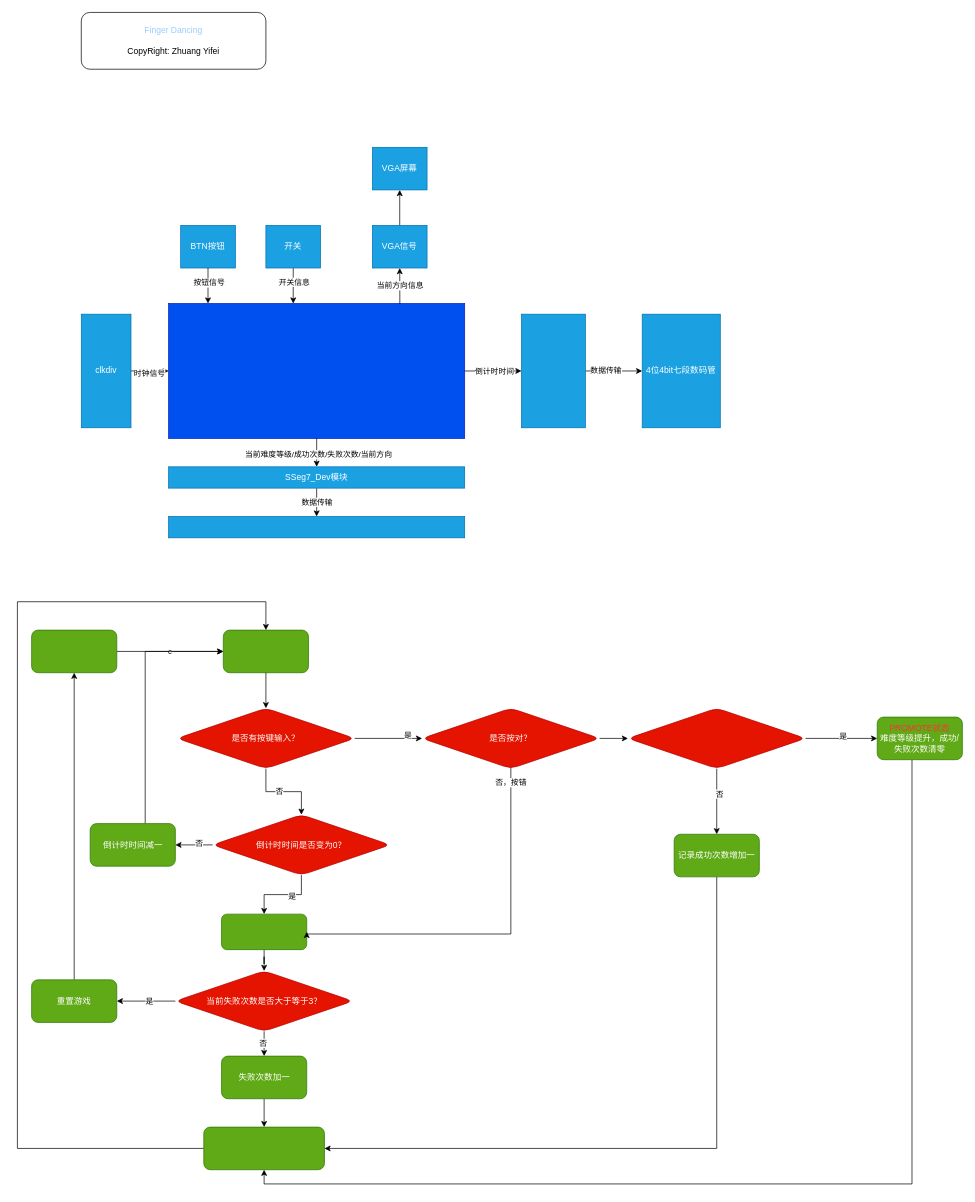
Some shapes in this 975 by 1202 pixel diagram are drawn without their labels. Here are the shapes that lost their labels. From the top down, the centre of each, then its label:
(x=316, y=370): Top模块
(x=553, y=370): disp_num模块
(x=316, y=527): 8位4bit七段数码管
(x=74, y=651): INIT状态 游戏开始，初始化倒计时，难度等信息
(x=265, y=651): WAIT状态 等待按钮输入 执行倒计时逻辑
(x=716, y=738): 当前成功次数是否到达10？
(x=264, y=931): FAIL状态
(x=263, y=1148): UPDATEDIRECTION状态 更新下一个方向，重置倒计时
